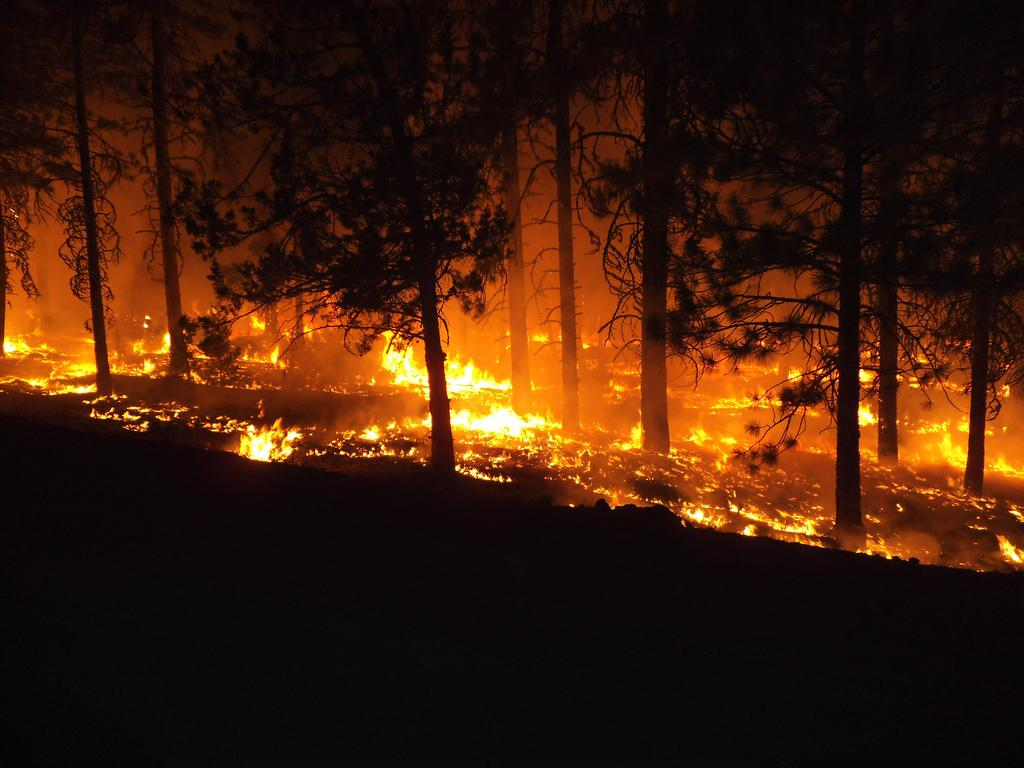fire: (240, 416, 294, 464), (456, 406, 534, 436), (452, 352, 496, 392), (390, 346, 424, 396)
